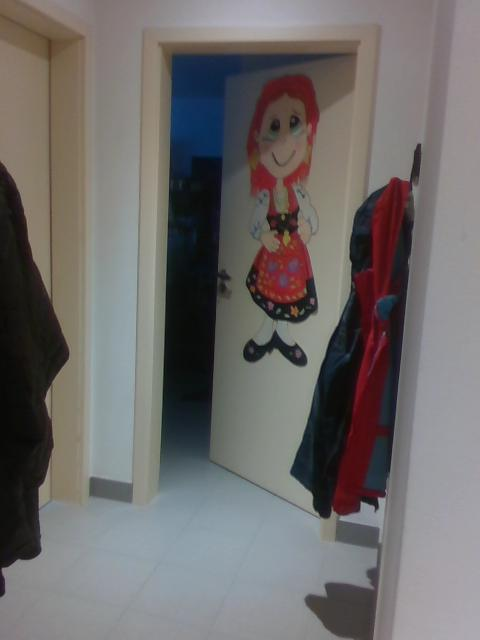semi_door: (129, 23, 381, 539)
